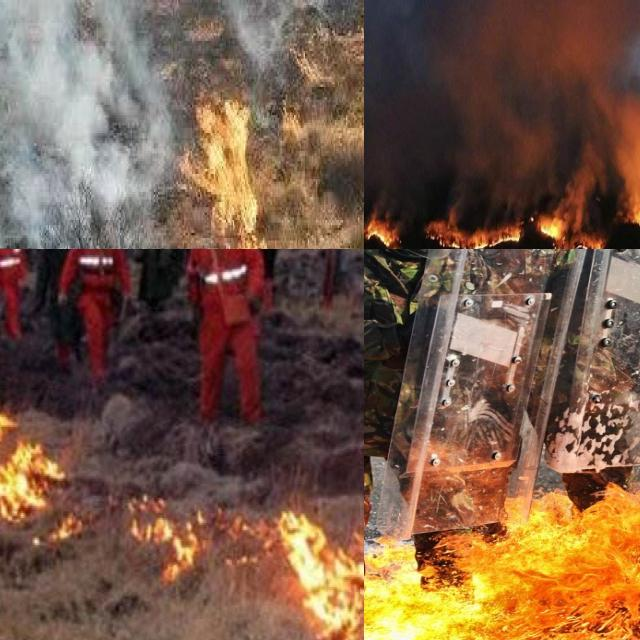fire: (364, 486, 640, 640), (171, 97, 275, 249), (115, 496, 248, 592), (0, 408, 83, 553), (275, 513, 364, 640), (431, 207, 519, 249), (537, 207, 601, 249), (364, 213, 398, 249)
smoke: (364, 0, 640, 223), (0, 0, 164, 249), (178, 0, 364, 71)
